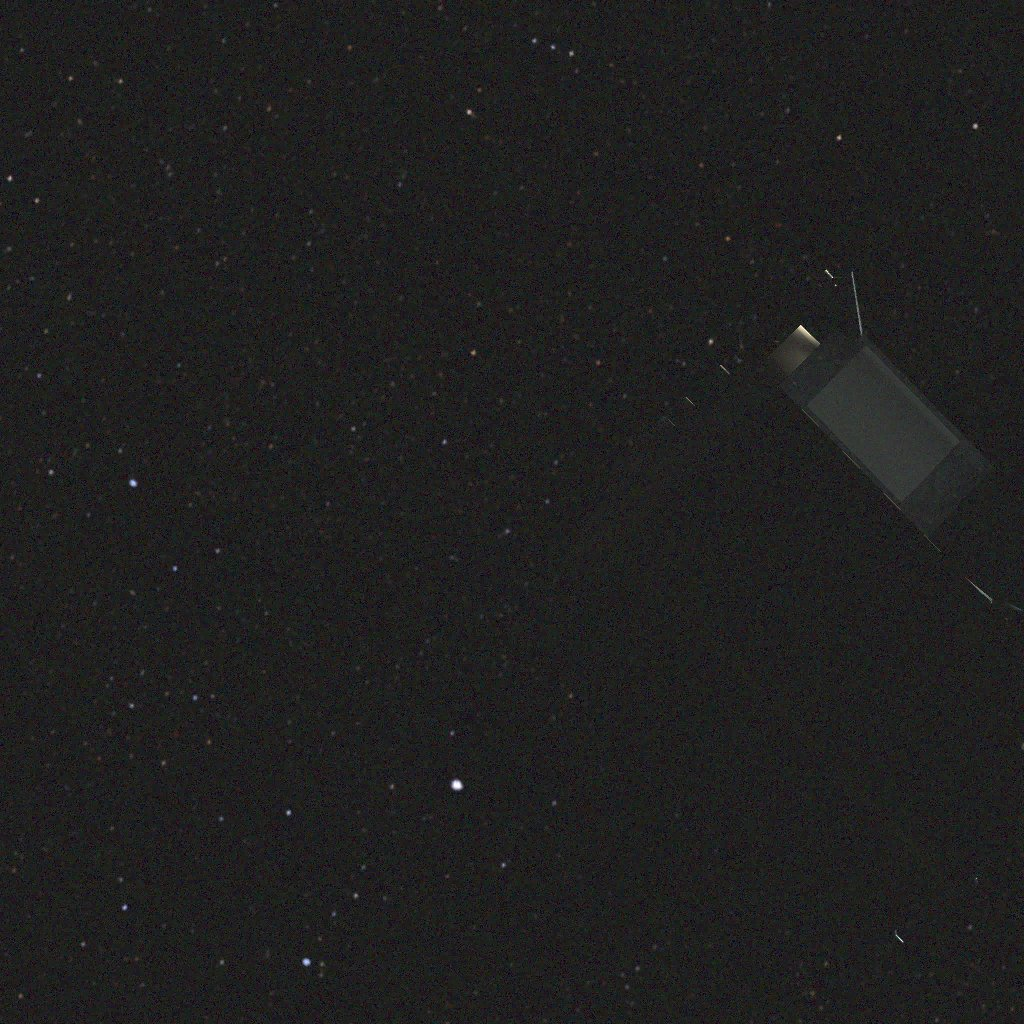cheops: (523, 270, 1024, 961)
